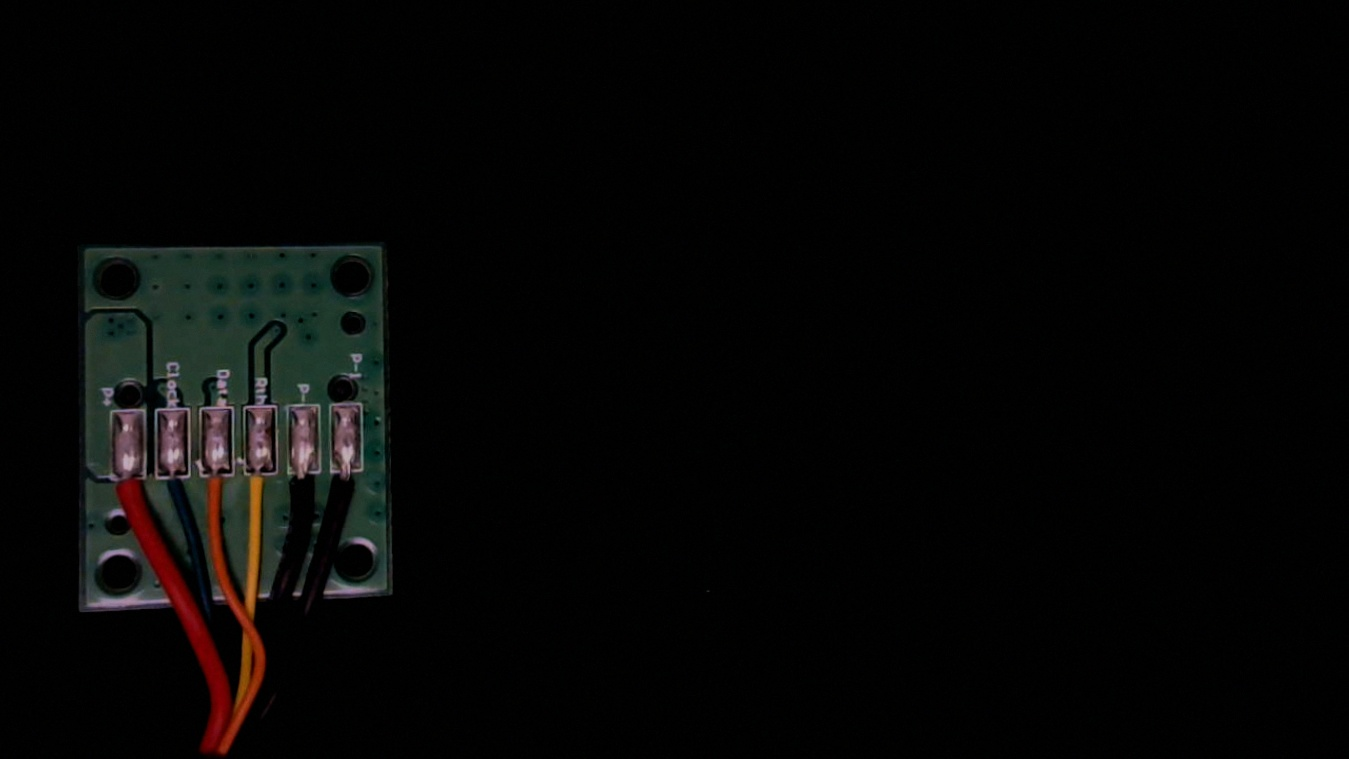Black: (314, 465, 356, 534)
Black1: (362, 463, 406, 536)
Green: (160, 468, 205, 531)
Orange: (211, 467, 253, 533)
Red: (108, 470, 155, 546)
Yellow: (263, 467, 308, 534)
